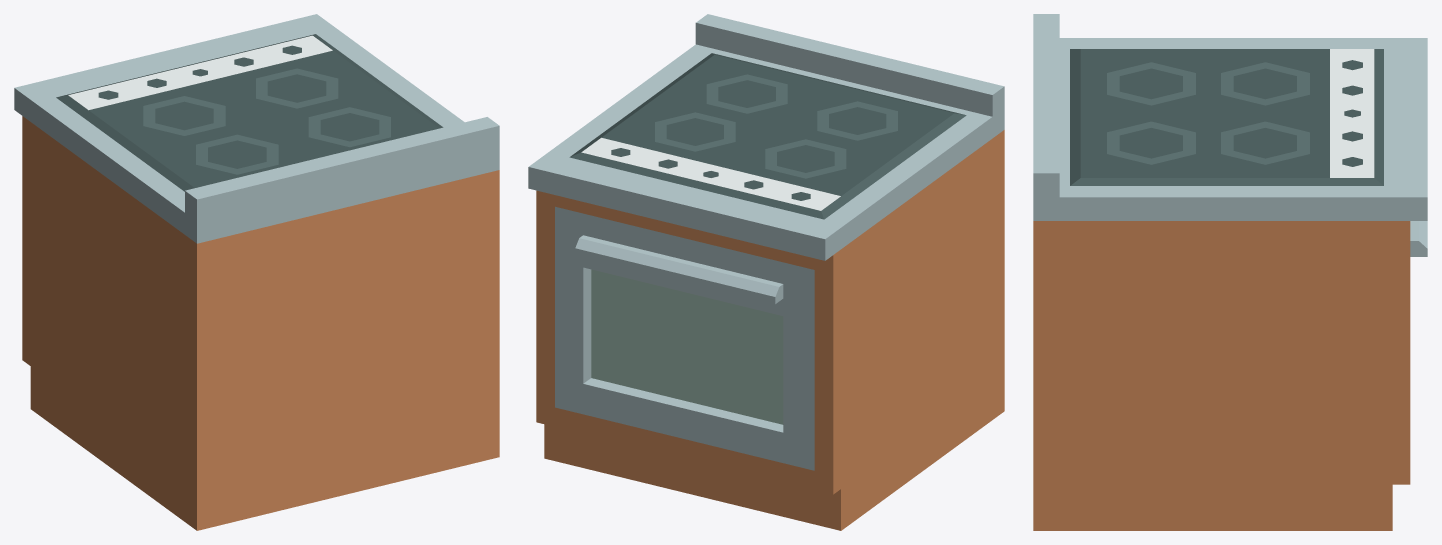
The model's file is kitchenStoveElectric.fbx.
3 views of the same model, side by side, from view 1: azimuth 30°, elevation 25°; view 2: azimuth 150°, elevation 25°; view 3: azimuth 270°, elevation 25° (orthographic). The views are drawn at different scales.
Visible parts, largest first — view 1: kitchenStoveElectric; view 2: kitchenStoveElectric; view 3: kitchenStoveElectric.
Boxes of the visible parts, bbox=[...] form: kitchenStoveElectric: bbox=[14, 14, 499, 530]; kitchenStoveElectric: bbox=[528, 14, 1004, 530]; kitchenStoveElectric: bbox=[1033, 14, 1427, 530].
Bounding box in the file's own units: 4.3 × 4.5 × 4.5.
